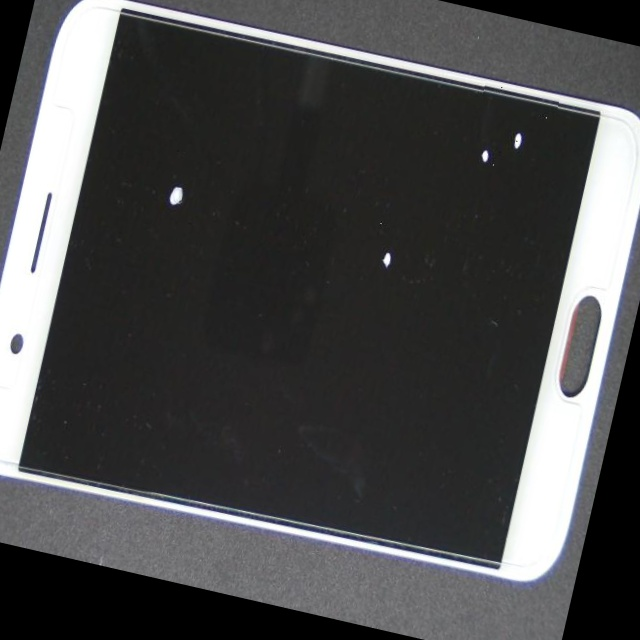stain: (145, 97, 588, 468), (221, 48, 640, 312), (50, 19, 280, 337)
